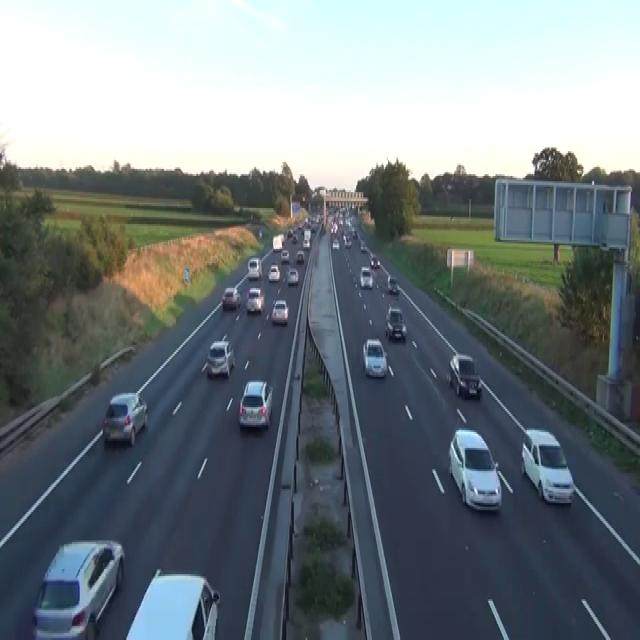Car: (32, 539, 125, 638), (124, 567, 220, 638), (447, 428, 502, 512), (520, 427, 574, 505), (102, 391, 148, 446), (238, 379, 273, 430), (448, 352, 481, 398), (206, 338, 235, 378), (362, 338, 387, 377), (385, 304, 406, 340), (245, 286, 264, 313), (271, 298, 289, 324), (221, 286, 240, 310), (247, 256, 262, 279), (359, 265, 373, 288), (286, 266, 299, 284), (267, 263, 279, 281), (387, 274, 398, 293), (370, 254, 380, 268), (280, 249, 289, 263), (296, 251, 304, 263), (344, 236, 351, 249), (330, 222, 337, 235), (331, 238, 339, 249), (283, 267, 290, 279), (303, 228, 311, 238), (360, 240, 367, 251), (291, 233, 298, 243), (297, 222, 303, 231), (304, 217, 310, 226), (310, 224, 316, 233), (280, 233, 285, 243), (351, 230, 357, 238), (287, 228, 293, 236), (321, 222, 325, 233), (258, 228, 262, 238)
Truck: (272, 233, 284, 251)
